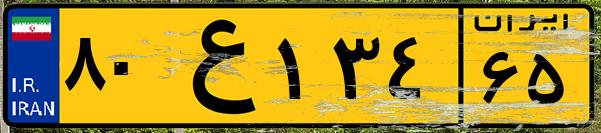0: (110, 28, 158, 98)
1: (270, 28, 330, 110)
3: (330, 28, 385, 110)
4: (385, 28, 445, 110)
5: (525, 38, 570, 115)
6: (475, 38, 525, 113)
8: (57, 26, 110, 100)
ع: (158, 12, 270, 120)
